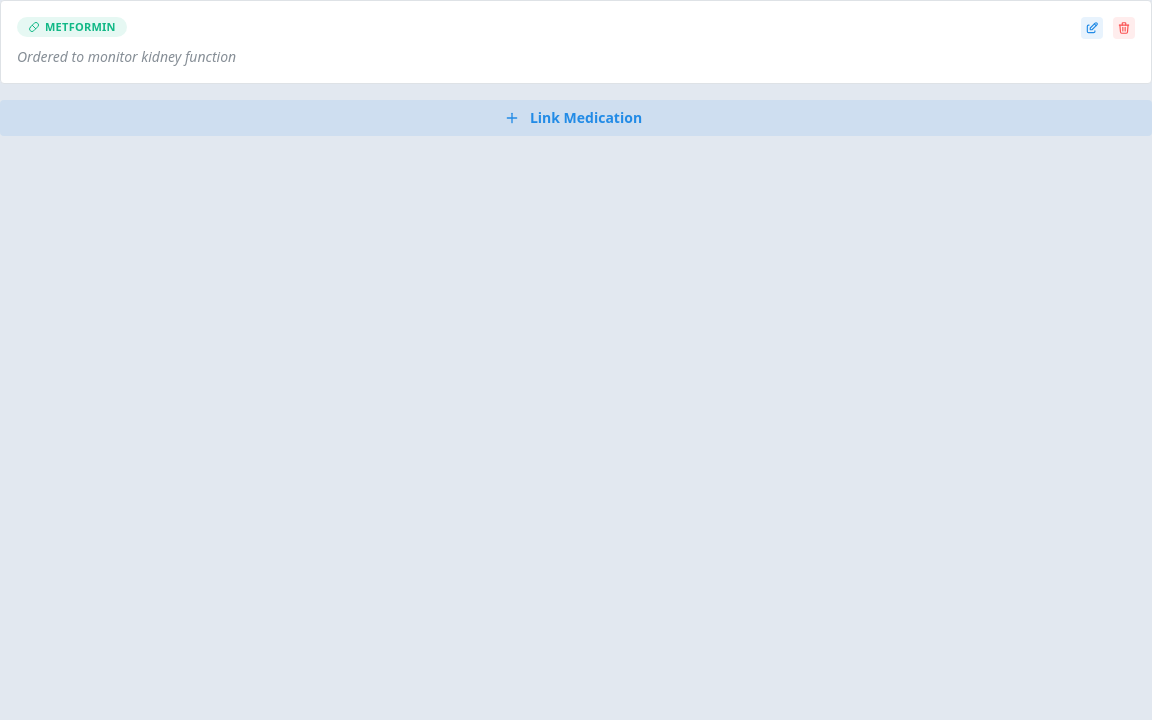
Test: LabResultMedicationRelationships Component › Modal Functionality › should open modal when Add button is clicked
What coordinates should you click on to do the following:
click the button "Link Medication"
I would click on:
 (576, 118)
Its box is [0, 100, 1151, 136].
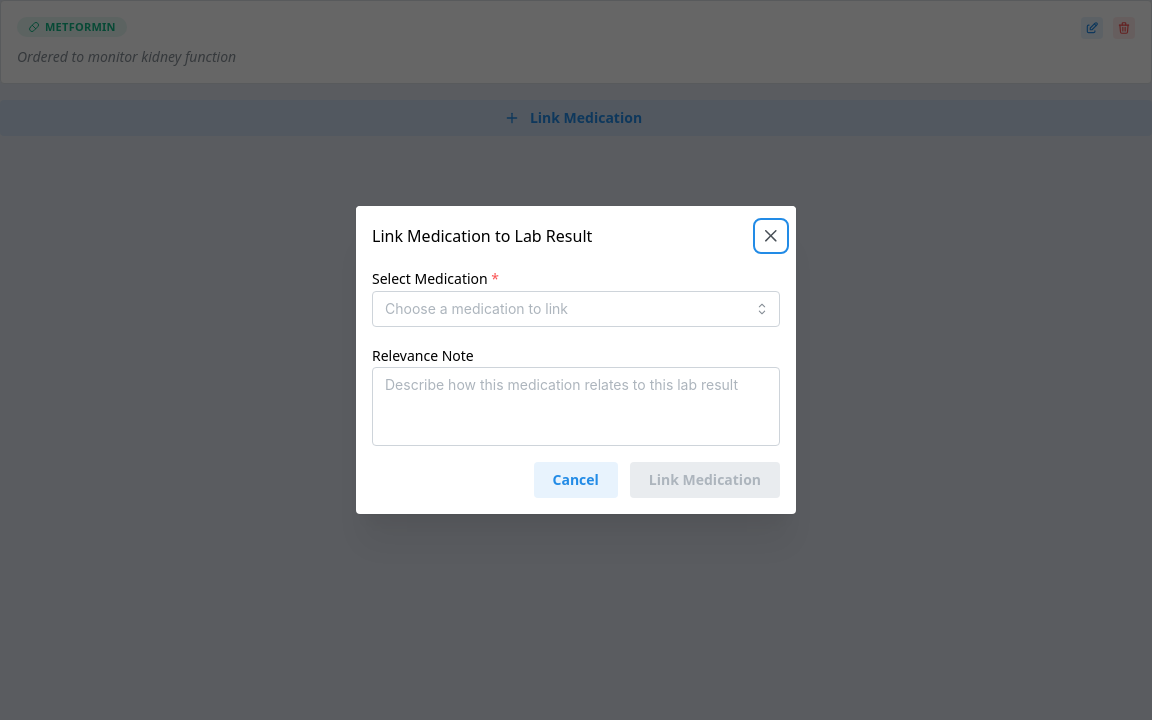
Now the heading "Link Medication to Lab Result" is shown, box [372, 228, 592, 244]
